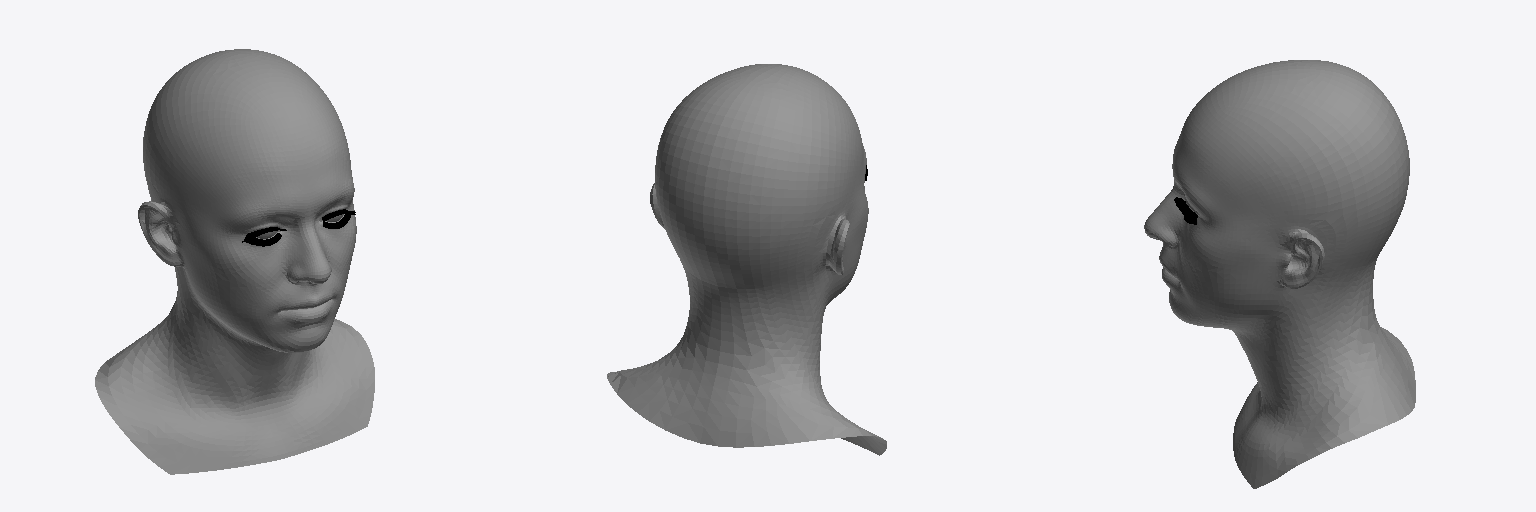
File: identity069.obj
3 renders of one model, left to right at view 1: azimuth 30°, elevation 25°; view 2: azimuth 150°, elevation 25°; view 3: azimuth 270°, elevation 25°, orthographic.
Bounding box in the file's own units: 24.82 × 33.81 × 22.25.